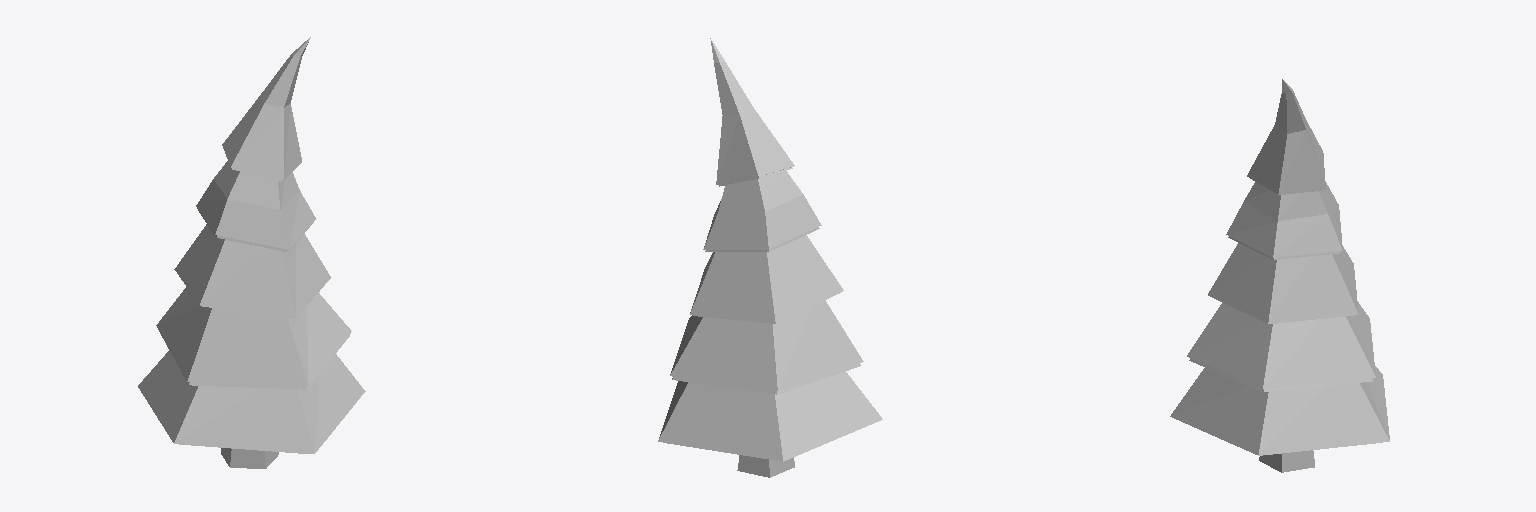
File: tree.obj
3 renders of one model, left to right at view 1: azimuth 30°, elevation 25°; view 2: azimuth 150°, elevation 25°; view 3: azimuth 270°, elevation 25°, orthographic.
Visible parts, largest first — view 1: Cylinder.020; view 2: Cylinder.020; view 3: Cylinder.020.
Part boxes in pixels (left/top/right/bottom): Cylinder.020: left=138, top=37, right=365, bottom=468; Cylinder.020: left=658, top=38, right=882, bottom=477; Cylinder.020: left=1170, top=79, right=1389, bottom=472.
Bounding box in the file's own units: 2.05 × 4.07 × 1.98.